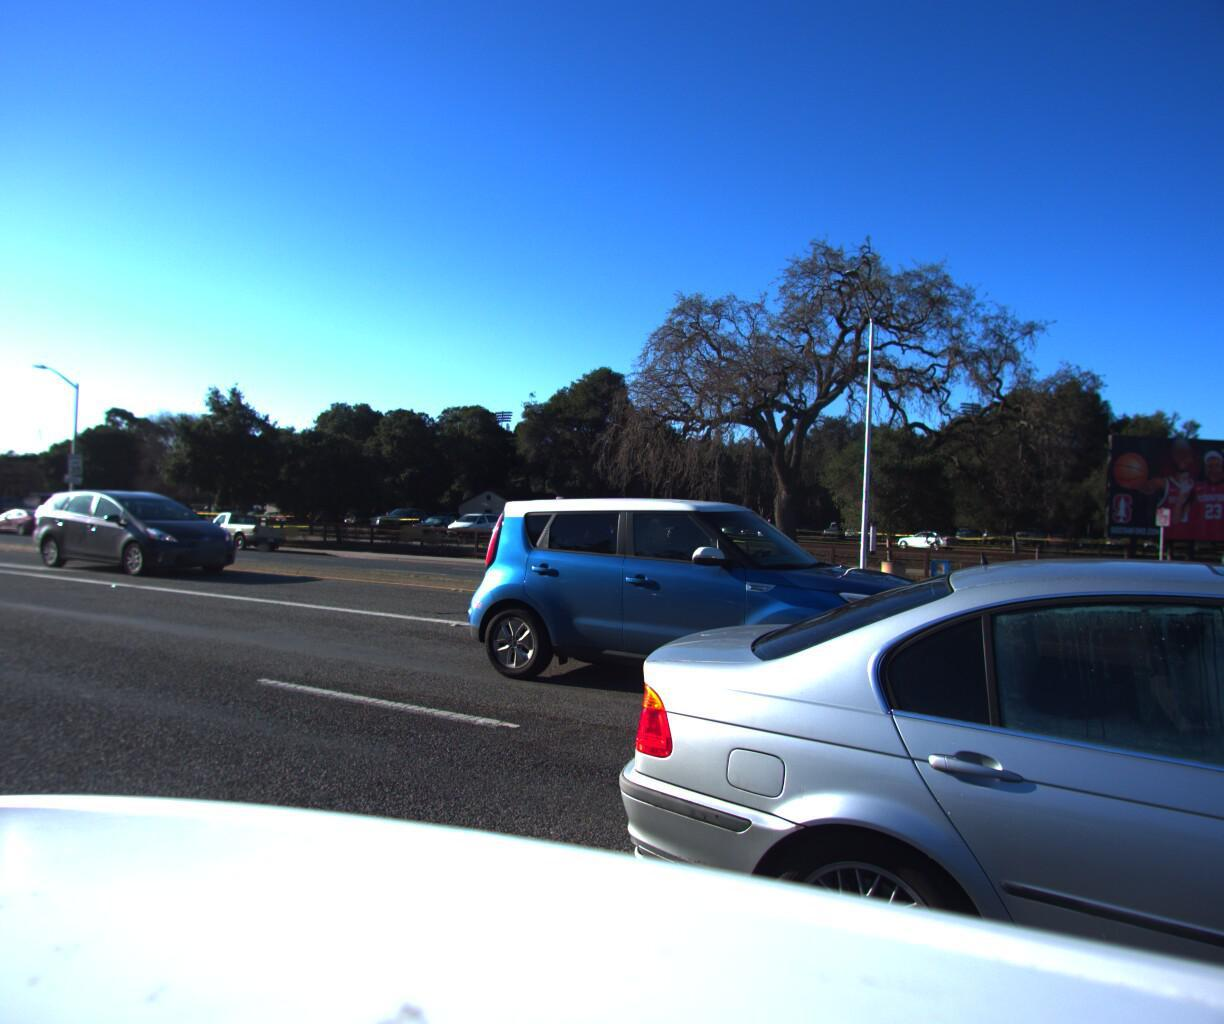car: (554, 535, 1224, 1024), (456, 488, 994, 747), (28, 480, 251, 576), (1183, 480, 1224, 773), (186, 504, 291, 546), (0, 501, 64, 531), (0, 487, 7, 527)
